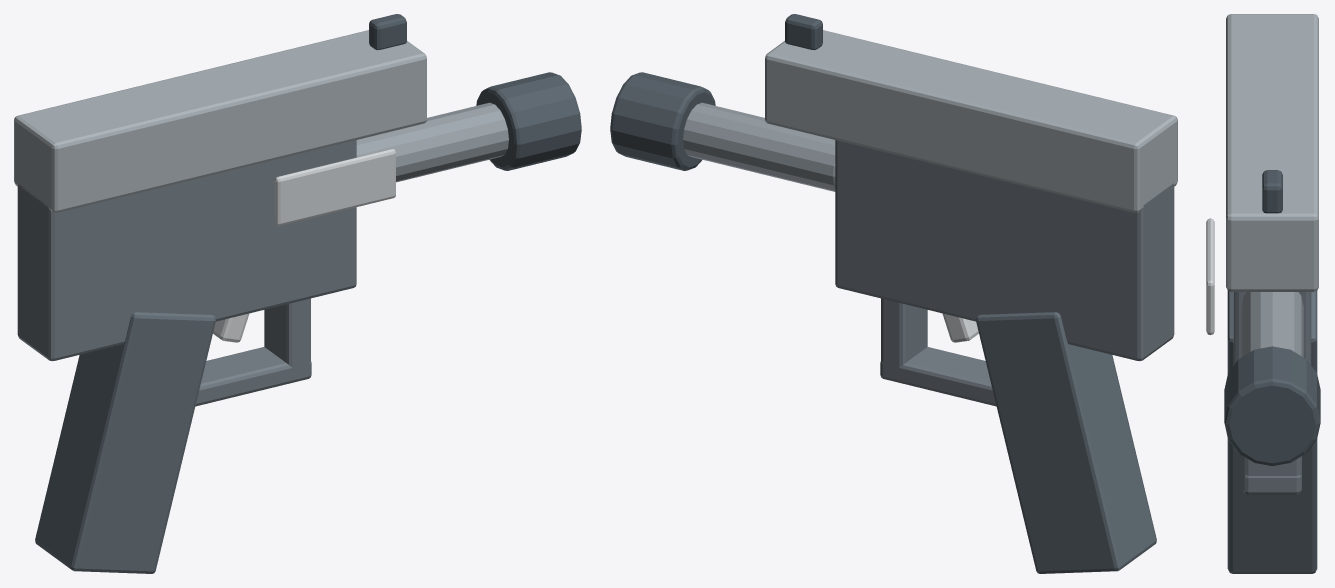
Rendered from pistol.glb.
The picture shows the model from 3 angles, left to right: view 1: azimuth 30°, elevation 25°; view 2: azimuth 150°, elevation 25°; view 3: azimuth 270°, elevation 25°; orthographic projection. The views are drawn at different scales.
Parts seen in each view (by area): view 1: pistol_机匣, pistol_套筒, pistol_握把, pistol_枪口套, pistol_枪管, pistol_抛壳窗, pistol_扳机护圈下, pistol_扳机护圈前, pistol_准星, pistol_扳机; view 2: pistol_机匣, pistol_套筒, pistol_握把, pistol_枪管, pistol_枪口套, pistol_扳机护圈下, pistol_扳机护圈前, pistol_准星, pistol_扳机; view 3: pistol_套筒, pistol_握把, pistol_枪口套, pistol_枪管, pistol_机匣, pistol_扳机护圈下, pistol_抛壳窗, pistol_准星, pistol_扳机护圈前.
Boxes of the visible parts, x1,y1,x2,y2 form: pistol_机匣: [17, 140, 356, 361]; pistol_套筒: [14, 30, 426, 212]; pistol_握把: [35, 312, 215, 573]; pistol_枪口套: [476, 72, 581, 170]; pistol_枪管: [356, 102, 508, 182]; pistol_抛壳窗: [275, 149, 395, 225]; pistol_扳机护圈下: [195, 347, 311, 406]; pistol_扳机护圈前: [264, 298, 310, 369]; pistol_准星: [369, 14, 406, 50]; pistol_扳机: [213, 313, 249, 342]; pistol_机匣: [835, 140, 1174, 361]; pistol_套筒: [765, 30, 1177, 212]; pistol_握把: [976, 312, 1156, 573]; pistol_枪管: [683, 102, 835, 191]; pistol_枪口套: [610, 72, 715, 170]; pistol_扳机护圈下: [880, 347, 996, 406]; pistol_扳机护圈前: [881, 298, 927, 369]; pistol_准星: [785, 14, 822, 50]; pistol_扳机: [942, 313, 978, 342]; pistol_套筒: [1226, 14, 1318, 291]; pistol_握把: [1227, 291, 1317, 573]; pistol_枪口套: [1224, 346, 1320, 465]; pistol_枪管: [1241, 292, 1303, 357]; pistol_机匣: [1233, 292, 1311, 365]; pistol_扳机护圈下: [1243, 475, 1301, 494]; pistol_抛壳窗: [1206, 218, 1214, 334]; pistol_准星: [1262, 170, 1282, 213]; pistol_扳机护圈前: [1243, 456, 1301, 475].
Bounding box in the file's own units: 0.395 × 0.3426 × 0.0665.
